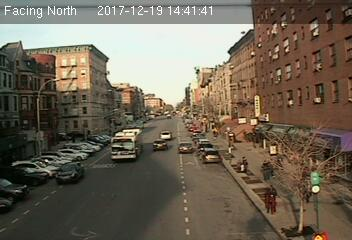bus: (110, 128, 144, 163)
car: (55, 162, 85, 181), (202, 148, 220, 162), (152, 140, 168, 150), (178, 143, 193, 152)
pedestrian: (261, 160, 271, 182), (240, 156, 247, 172)
